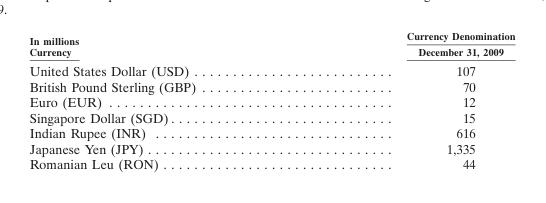table: (28, 29, 514, 171)
table column: (28, 29, 301, 171), (301, 29, 514, 171)
table column header: (28, 29, 514, 59)
table row: (28, 29, 514, 59), (28, 59, 514, 78), (28, 93, 514, 109), (28, 124, 514, 140), (28, 155, 514, 171), (28, 78, 514, 93), (28, 109, 514, 124), (28, 140, 514, 155)
